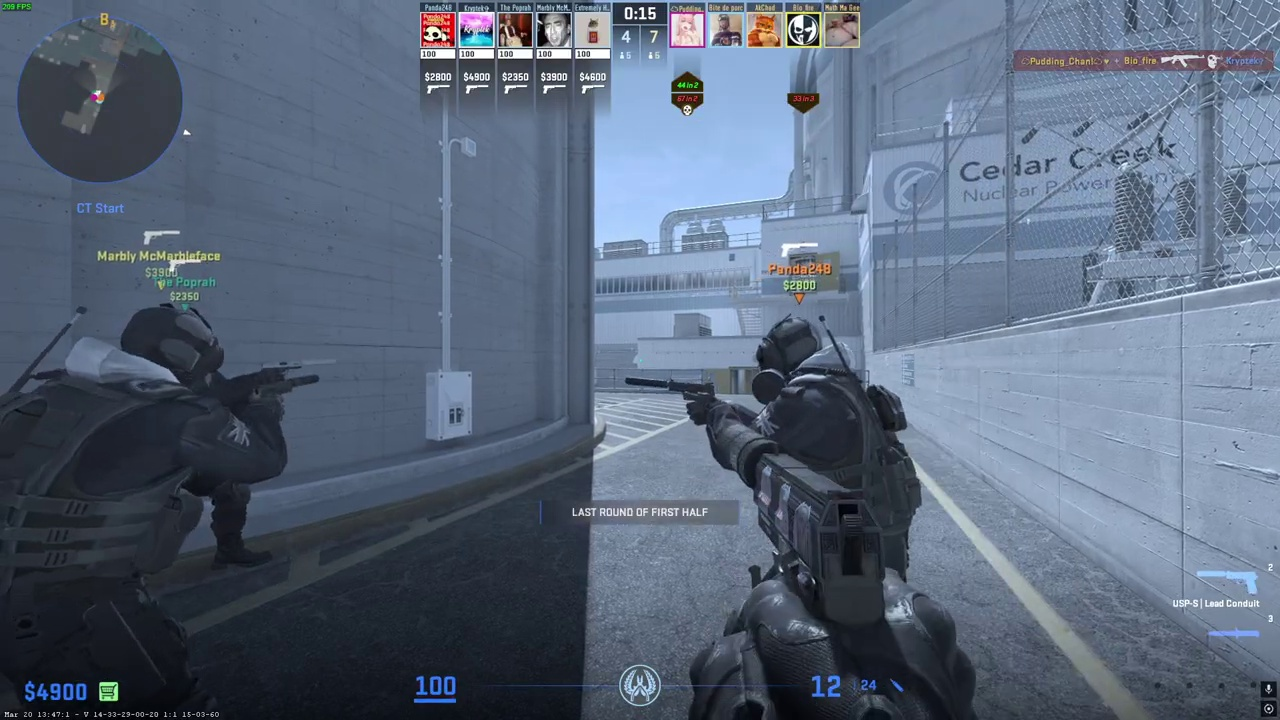CT: (3, 308, 274, 720), (717, 315, 907, 600)
